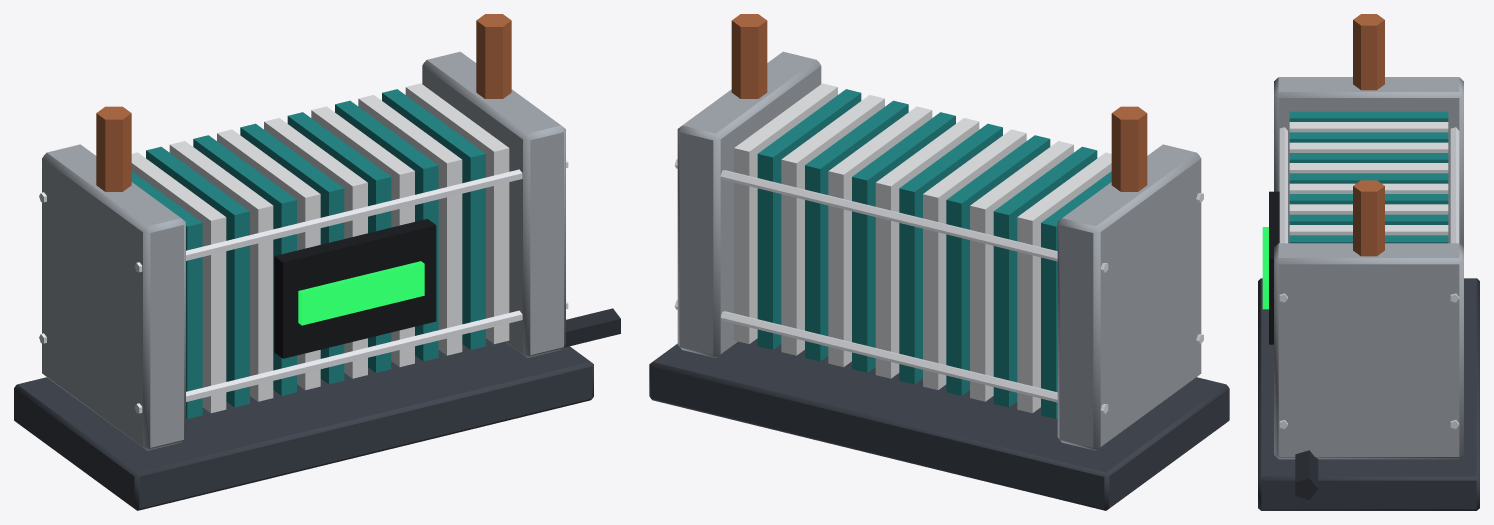
Rendered from capacitor_fuel_cell_stack.glb.
3 renders of one model, left to right at view 1: azimuth 30°, elevation 25°; view 2: azimuth 150°, elevation 25°; view 3: azimuth 270°, elevation 25°, orthographic. The views are drawn at different scales.
Parts seen in each view (by area): view 1: capacitor_fuel_cell_stack; view 2: capacitor_fuel_cell_stack; view 3: capacitor_fuel_cell_stack.
Boxes of the visible parts, <box> form: capacitor_fuel_cell_stack: <box>14,14,620,510</box>; capacitor_fuel_cell_stack: <box>649,14,1229,510</box>; capacitor_fuel_cell_stack: <box>1258,14,1479,510</box>.
Bounding box in the file's own units: 1.65 × 1.08 × 0.7.
